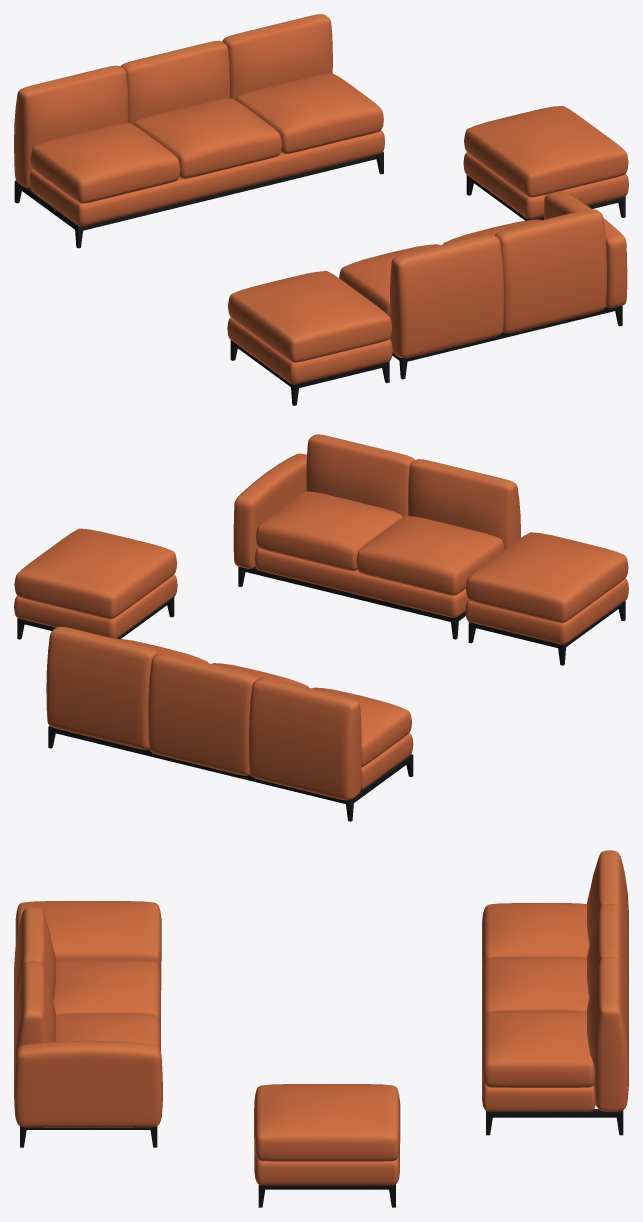
File: CommunityRoomA_SofaB.fbx
3 renders of one model, top to bottom at view 1: azimuth 30°, elevation 25°; view 2: azimuth 150°, elevation 25°; view 3: azimuth 270°, elevation 25°, orthographic. The views are drawn at different scales.
Visible parts, largest first — view 1: CommunityRoomA_SofaB; view 2: CommunityRoomA_SofaB; view 3: CommunityRoomA_SofaB.
Boxes of the visible parts, left/top/right/bottom form: CommunityRoomA_SofaB: left=14, top=14, right=628, bottom=405; CommunityRoomA_SofaB: left=14, top=434, right=628, bottom=821; CommunityRoomA_SofaB: left=14, top=850, right=628, bottom=1207.
Bounding box in the file's own units: 356 × 89.31 × 389.
